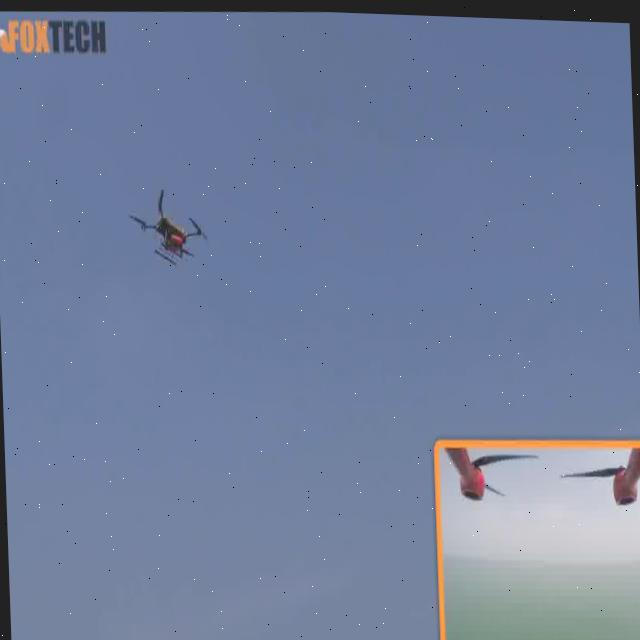drone: (116, 163, 216, 280)
